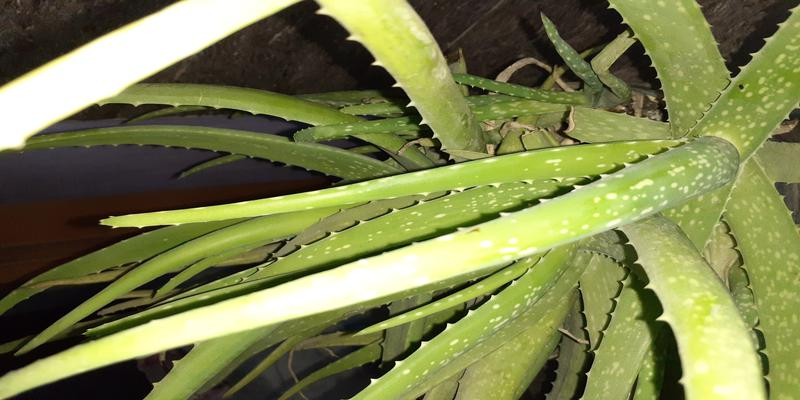Aloevera: (132, 76, 788, 385)
